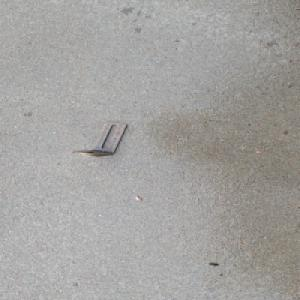MetalPart: (72, 121, 129, 157)
